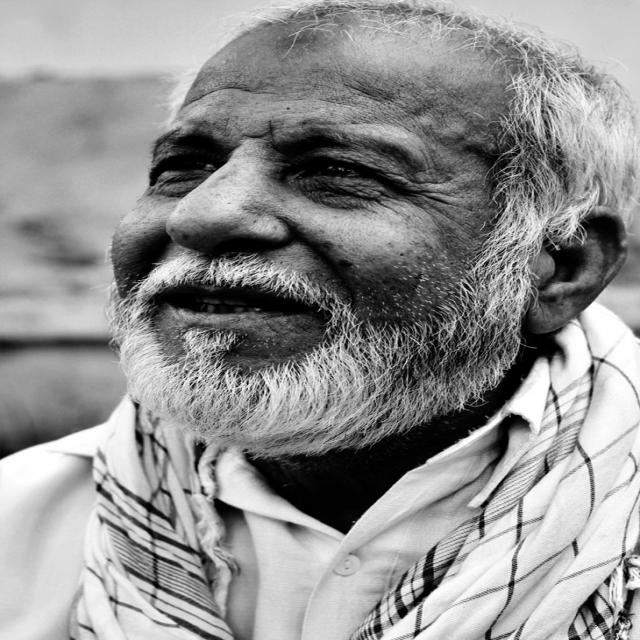earlobe: (528, 292, 571, 335)
eye: (302, 159, 376, 180), (160, 154, 220, 172)
nose: (170, 231, 276, 285)
wholeear: (529, 206, 630, 335)
